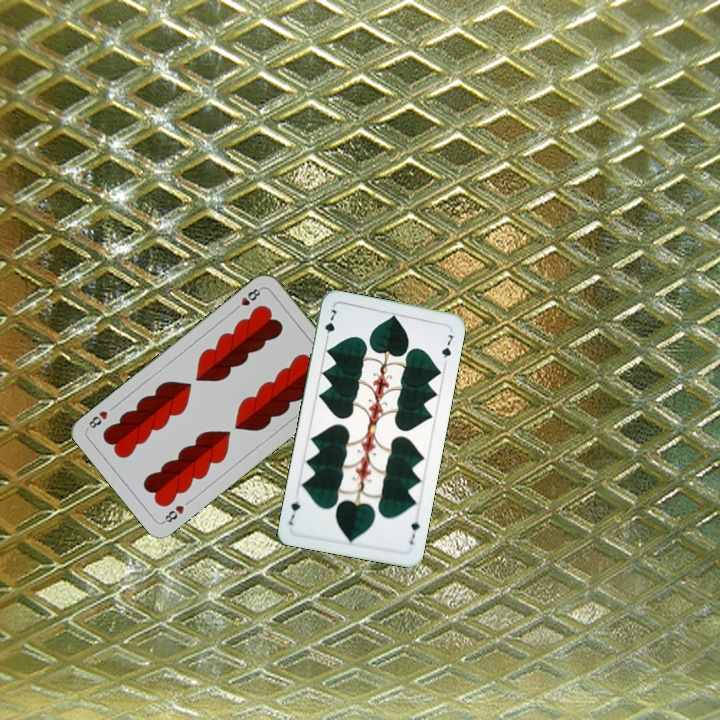G7: (320, 305, 339, 344), (406, 517, 422, 547)
H8: (230, 284, 265, 313), (159, 501, 187, 526)
